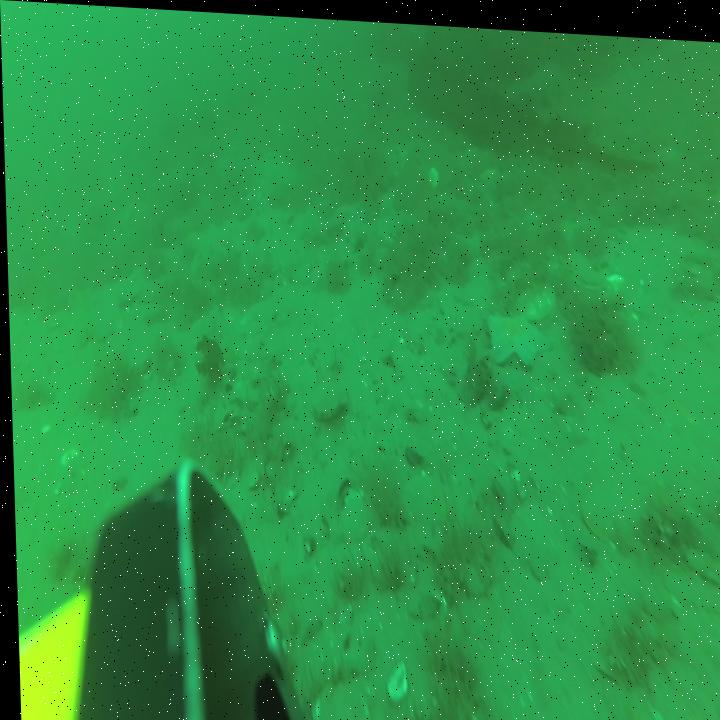scallop: (304, 660, 371, 720), (308, 370, 348, 419), (563, 239, 604, 283), (516, 274, 555, 316), (425, 159, 437, 186), (481, 159, 501, 175)
starfish: (486, 306, 546, 364)
